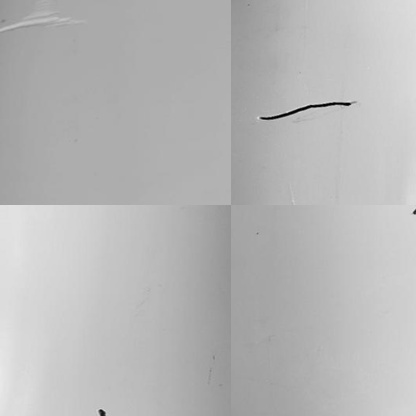fengxi: (268, 96, 356, 129)
kongdong: (97, 409, 110, 416)
sunshang: (1, 5, 85, 34)
